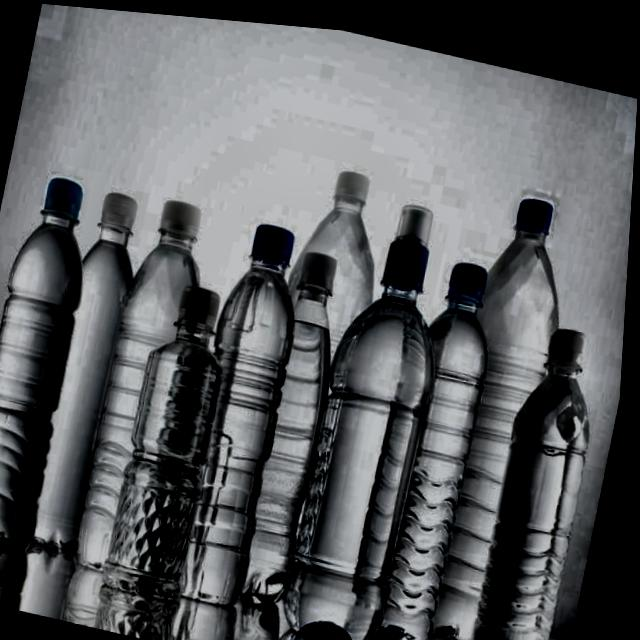Bottles: (402, 162, 597, 640), (288, 177, 461, 640), (165, 205, 324, 625), (367, 235, 513, 640), (80, 185, 218, 586), (23, 164, 157, 567), (470, 296, 621, 640), (226, 243, 356, 617), (0, 151, 113, 567), (103, 273, 244, 606)
